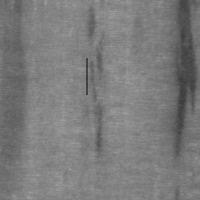inclusion: (168, 2, 199, 164), (1, 6, 31, 166), (84, 29, 108, 163), (83, 4, 96, 46), (84, 56, 88, 96)
